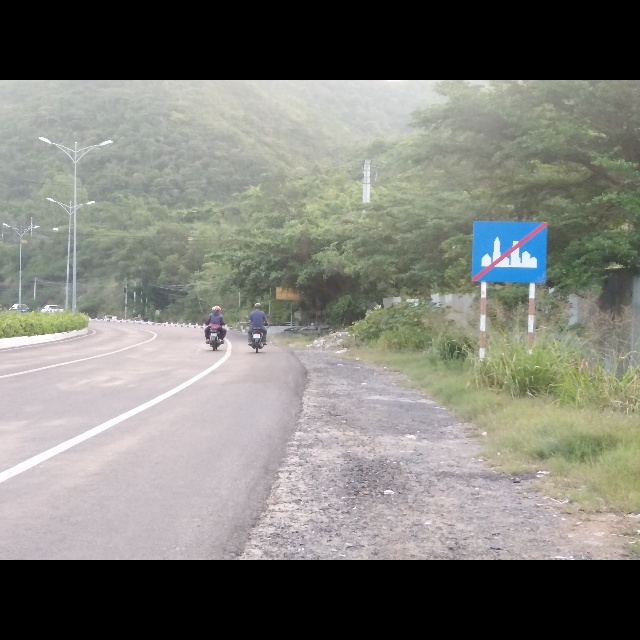Hết khu đông dân cư: (472, 218, 551, 285)
